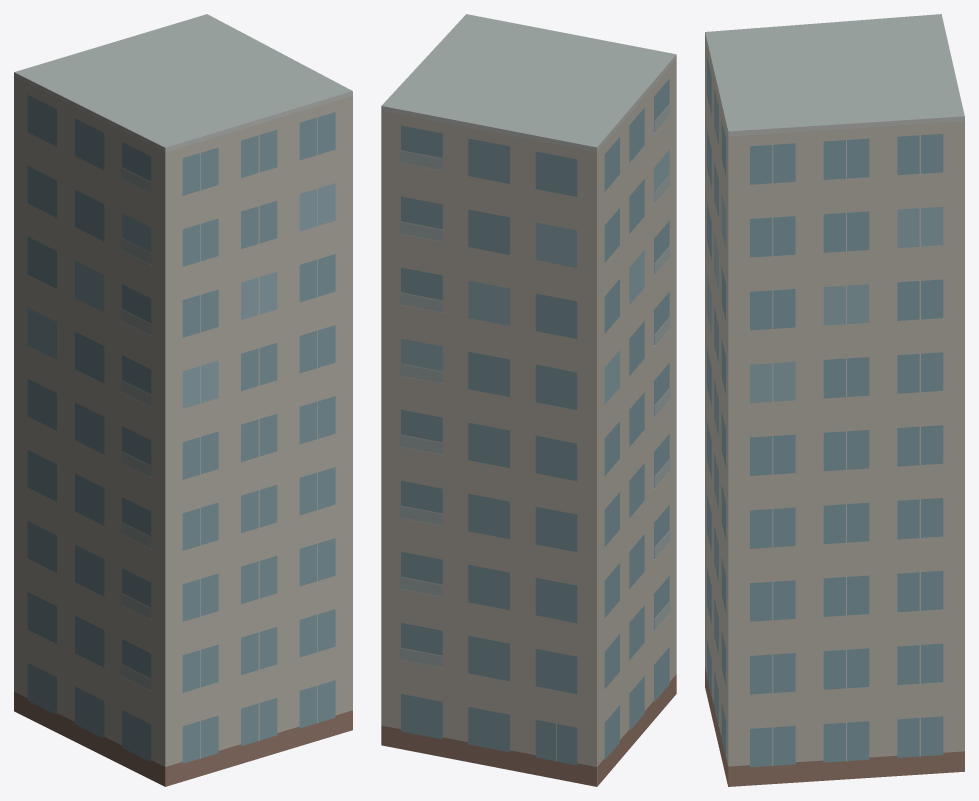
File: survey-upis-33006179.glb
The picture shows the model from 3 angles, left to right: view 1: azimuth 30°, elevation 25°; view 2: azimuth 150°, elevation 25°; view 3: azimuth 270°, elevation 25°; orthographic projection. The views are drawn at different scales.
Visible parts, largest first — view 1: survey-upis-33006179.tmp; view 2: survey-upis-33006179.tmp; view 3: survey-upis-33006179.tmp.
Part boxes in pixels (x1,y1,x2,y2): survey-upis-33006179.tmp: (14, 14, 352, 786); survey-upis-33006179.tmp: (381, 14, 676, 786); survey-upis-33006179.tmp: (705, 14, 964, 786).
Bounding box in the file's own units: 12.62 × 32.8 × 11.79.
